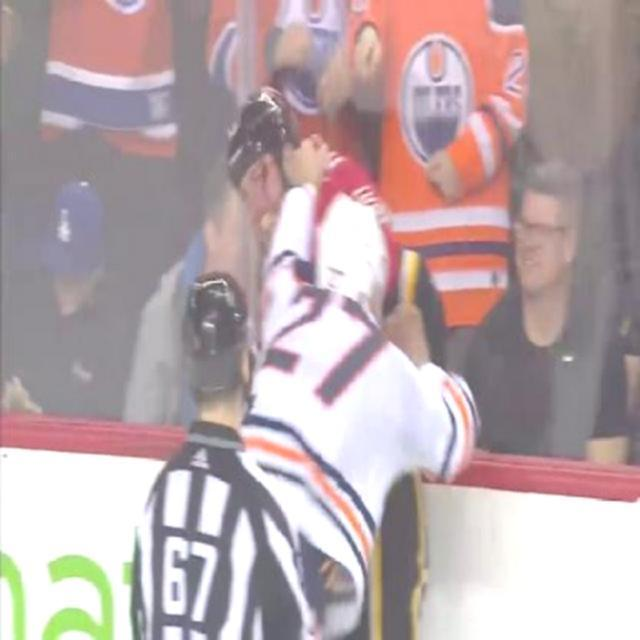fight: (225, 86, 478, 640)
